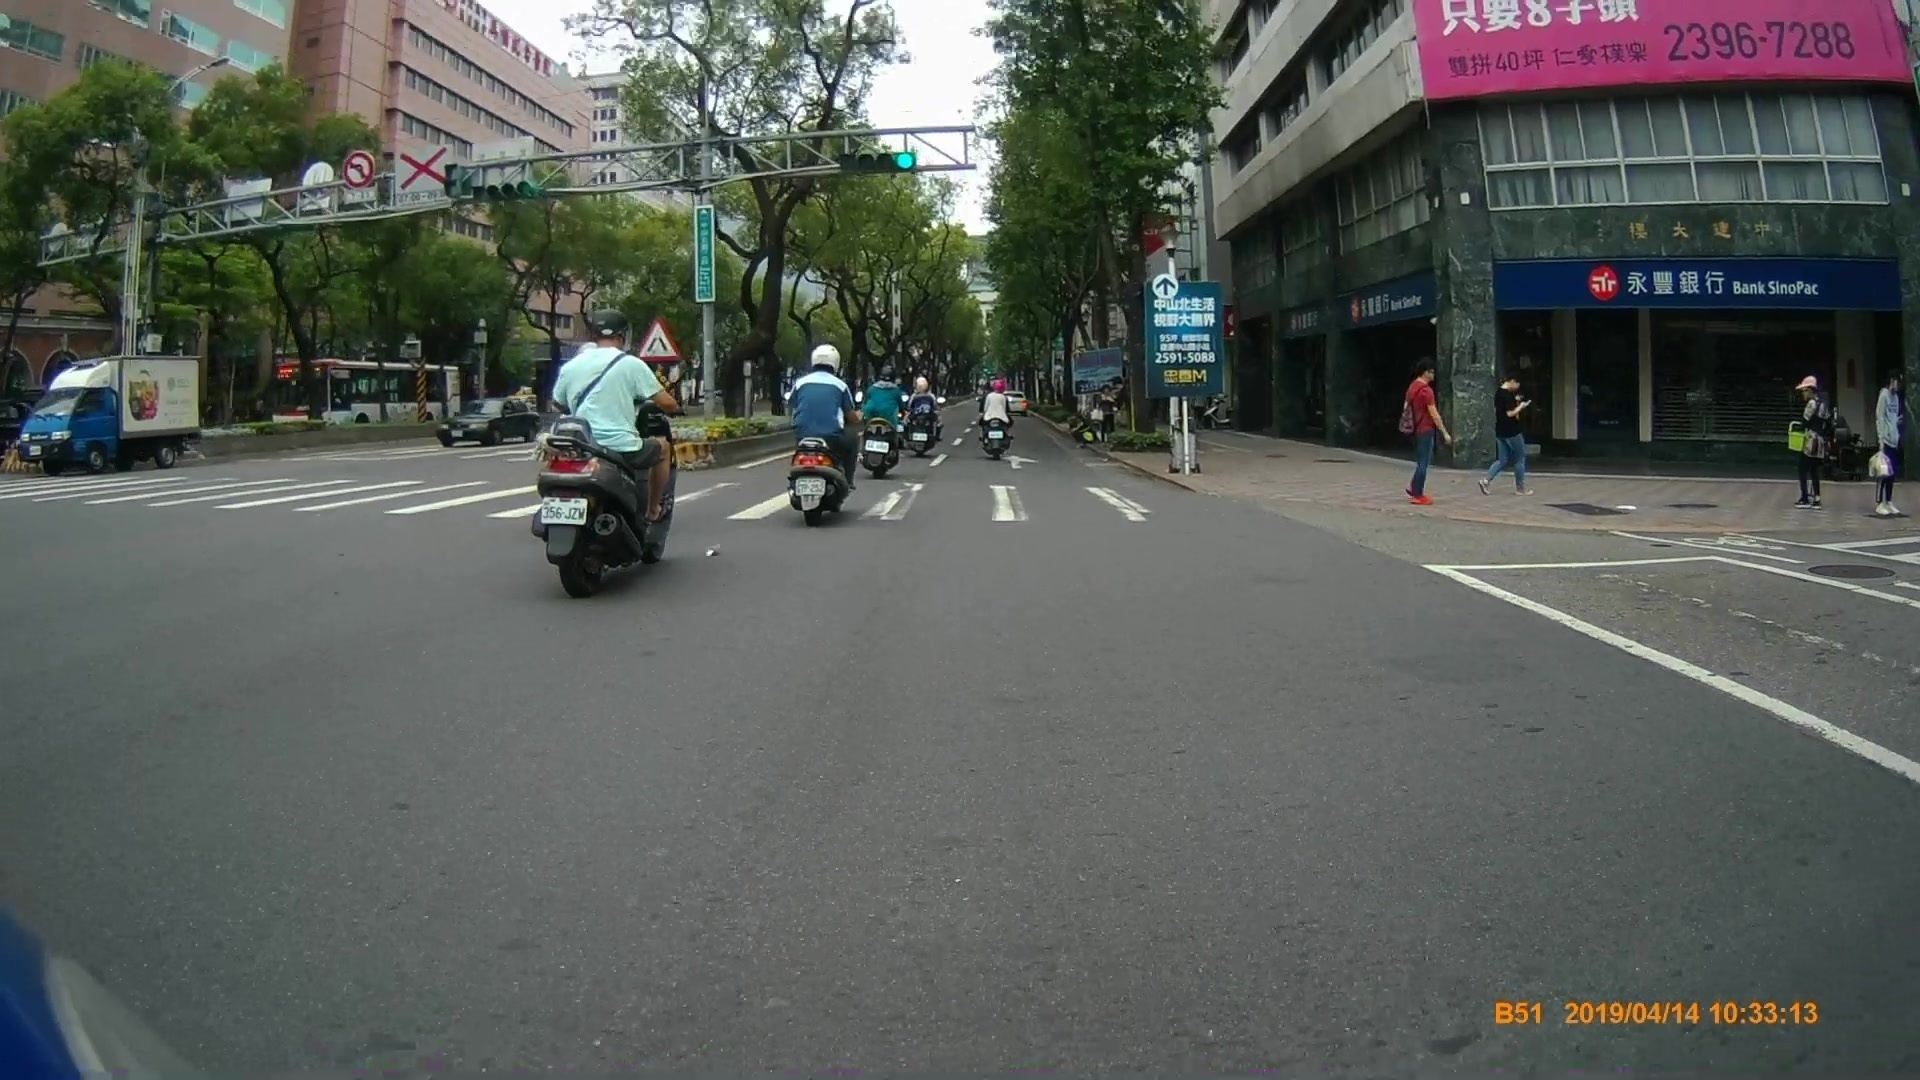License_plate: (539, 496, 590, 527), (793, 477, 828, 499), (864, 438, 890, 456)
